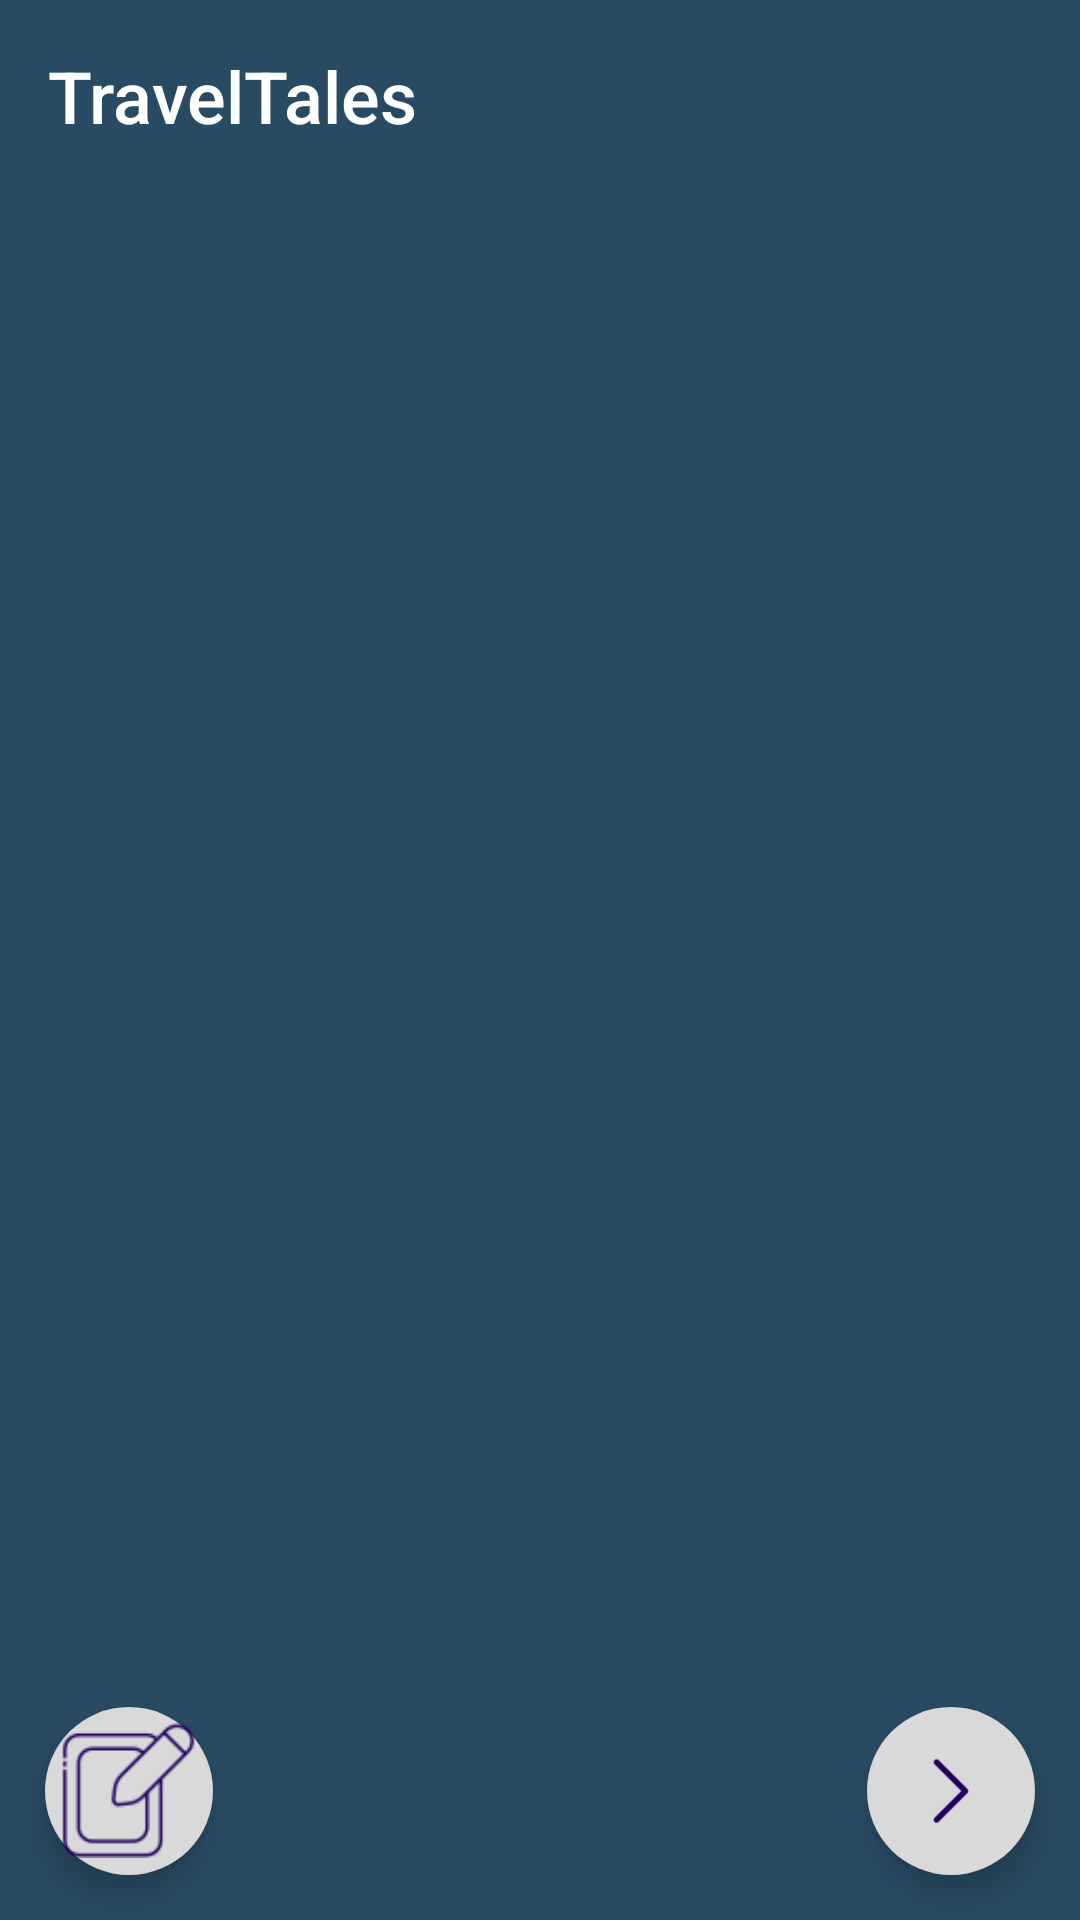

Icon click points for this 1080px x 1920px phone screenshot, format point (x, y):
next: point (951, 1791)
signup: point (129, 1791)
